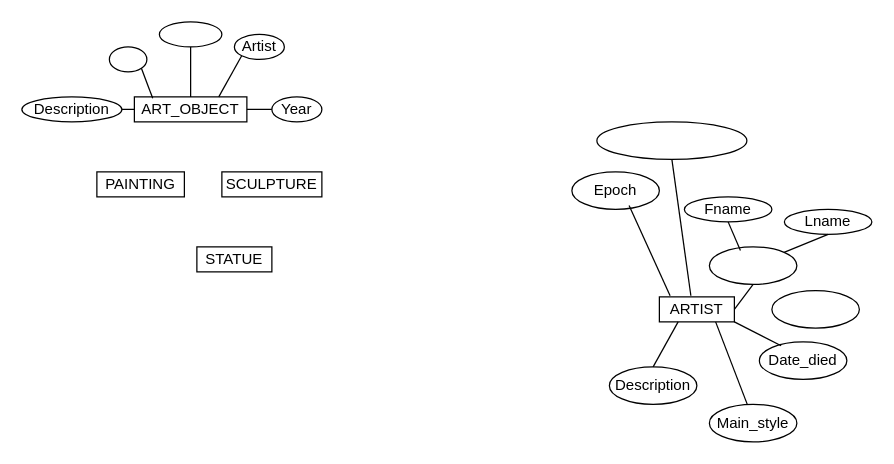
Some shapes in this 894 by 464 pixel diagram are drawn without their labels. The box of each missing label's shape, as (x1, y1, x2, y2) in pixels:
Country_of_origin: (596, 121, 747, 159)
Date_born: (771, 289, 859, 328)
ID_no: (158, 21, 222, 47)
Name: (708, 246, 797, 284)
Title: (108, 46, 147, 72)
